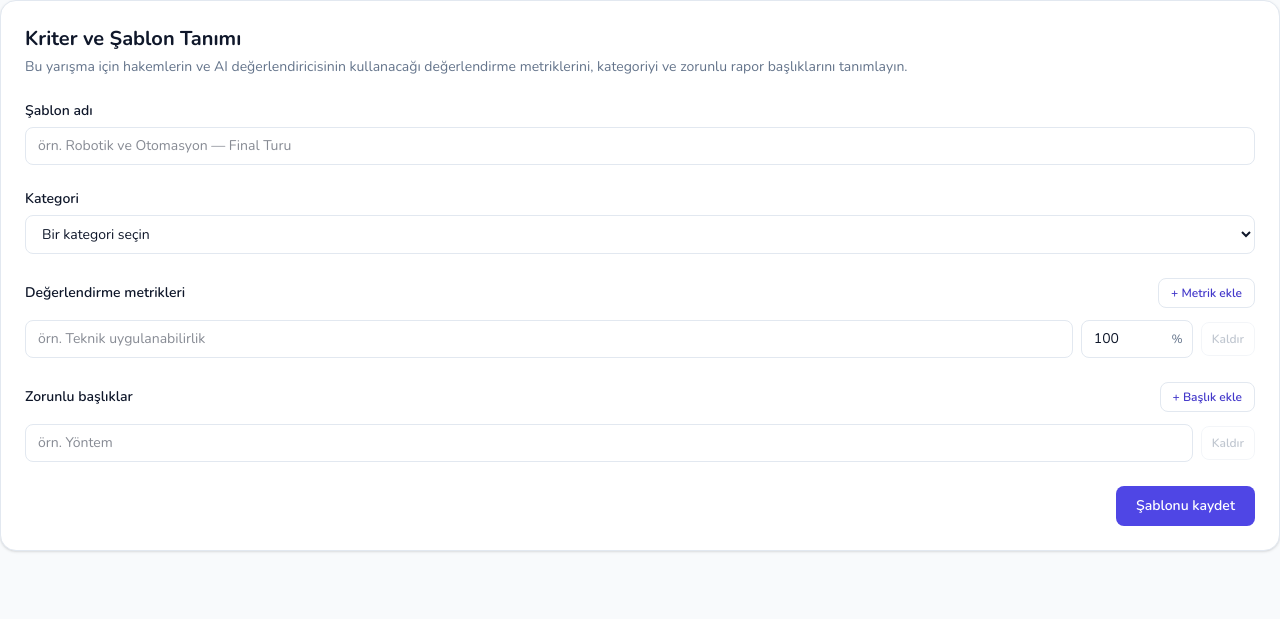
Test: CriteriaTemplateForm › adds and removes metric rows, disabling remove when only one remains
The width and height of the screenshot is (1280, 619).
Expected: the button with aria-label "metrik 1 kaldır" is disabled, 1201,322 -> 1255,356
Click the button "+ Metrik ekle" at (1206, 293), box 1158,278 -> 1255,308
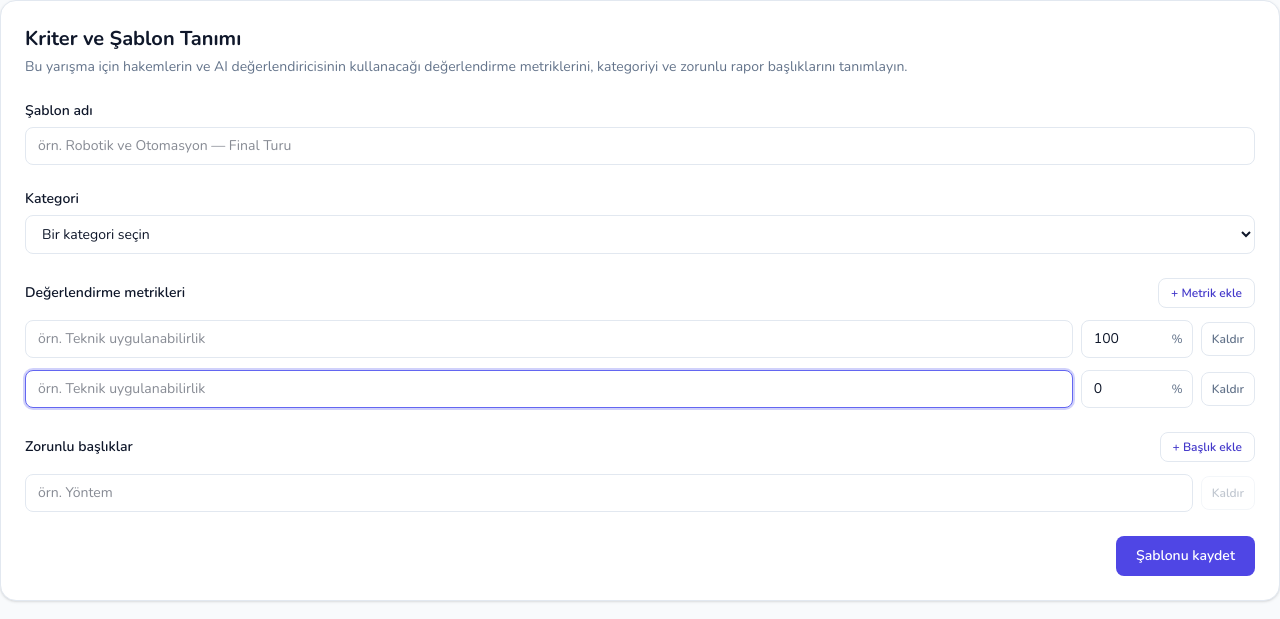
Now the field named "metrik 2 adı" is shown, box 25,370 -> 1073,408
Now the button with aria-label "metrik 1 kaldır" is enabled, box 1201,322 -> 1255,356
Click the button with aria-label "metrik 2 kaldır" at (1228, 389), box 1201,372 -> 1255,406
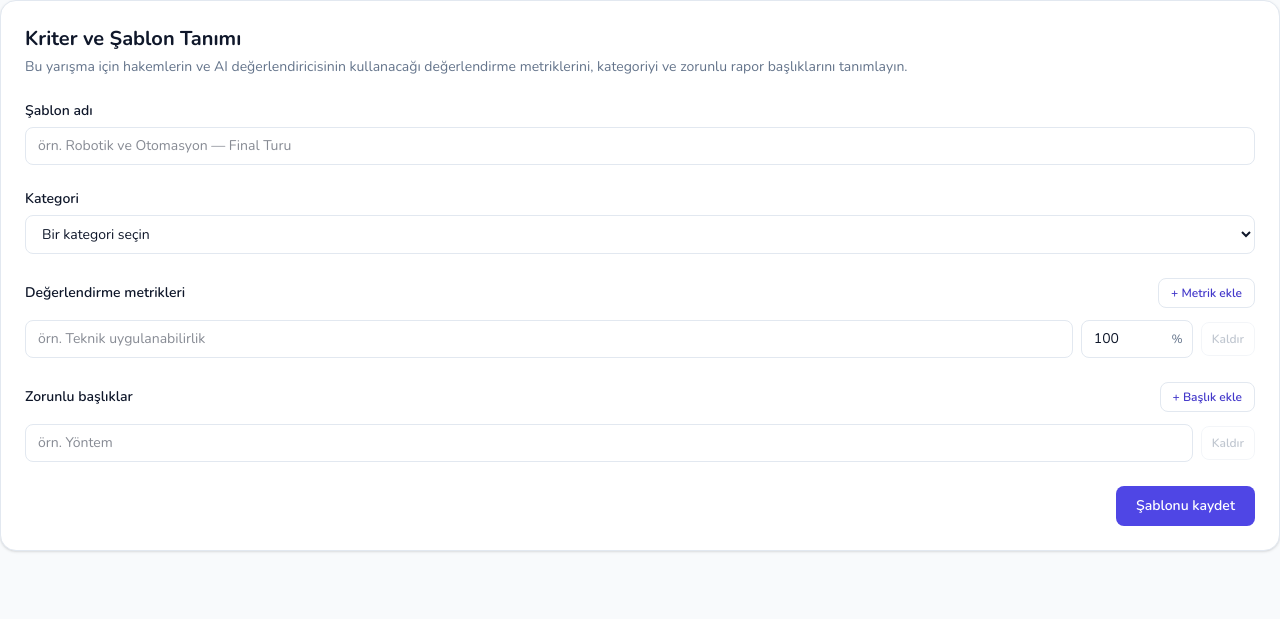
Expected: the field labelled "metrik 2 adı" is not shown
Now the button with aria-label "metrik 1 kaldır" is disabled, box 1201,322 -> 1255,356
